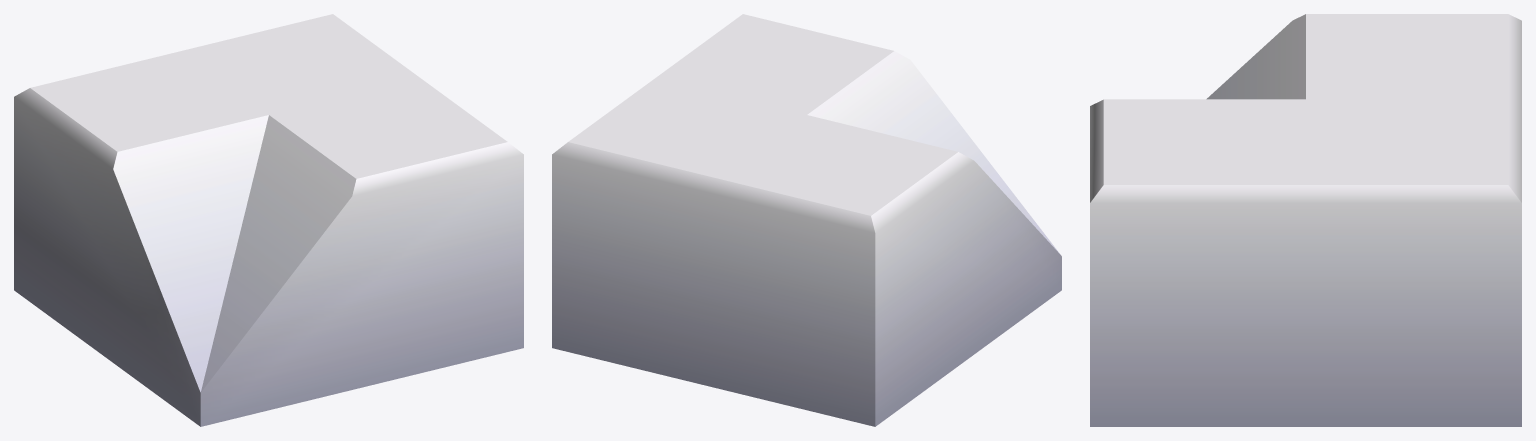
Rendered from kenney-brick-none-hq-brick-slope-corner-inside-2-x-2.glb.
3 views of the same model, side by side, from view 1: azimuth 30°, elevation 25°; view 2: azimuth 150°, elevation 25°; view 3: azimuth 270°, elevation 25° (orthographic). The views are drawn at different scales.
Visible parts, largest first — view 1: none-hq-brick-slope-corner-inside-2x2; view 2: none-hq-brick-slope-corner-inside-2x2; view 3: none-hq-brick-slope-corner-inside-2x2.
Boxes of the visible parts, x1,y1,x2,y2 form: none-hq-brick-slope-corner-inside-2x2: (14,14,523,426); none-hq-brick-slope-corner-inside-2x2: (552,14,1061,426); none-hq-brick-slope-corner-inside-2x2: (1090,14,1521,426).
Size of the model in its own units: 0.159 by 0.096 by 0.159.
Materials: 1 (1 with a texture image).
